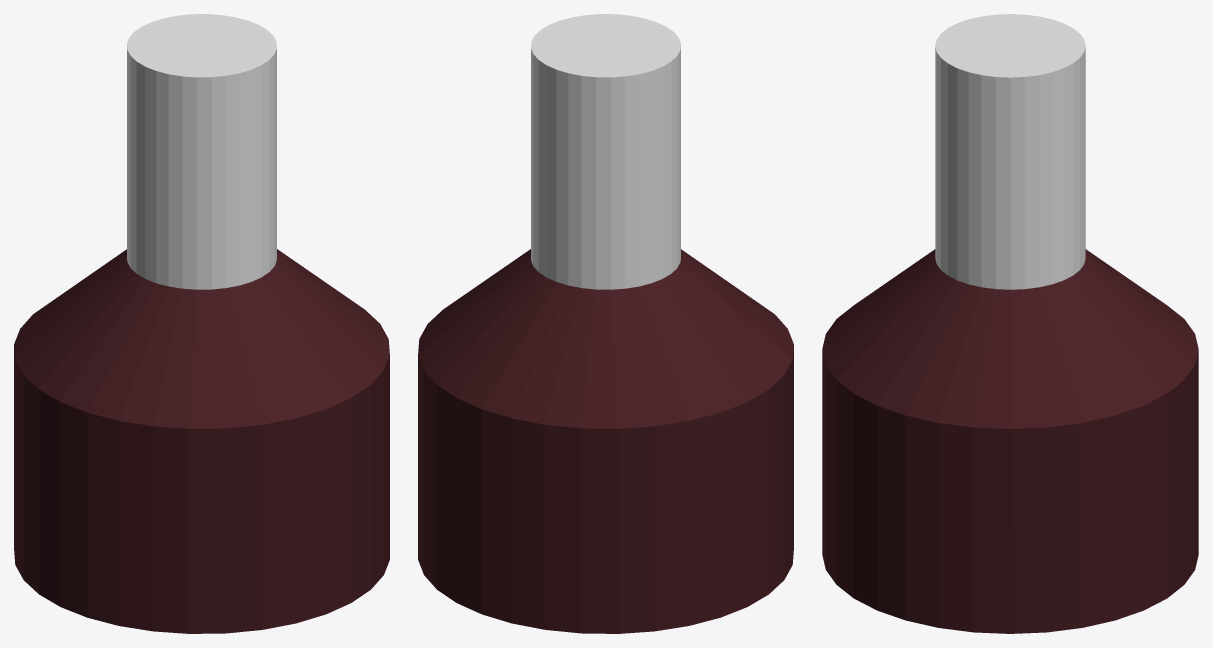
The model's file is item3.fbx.
The picture shows the model from 3 angles, left to right: view 1: azimuth 30°, elevation 25°; view 2: azimuth 150°, elevation 25°; view 3: azimuth 270°, elevation 25°; orthographic projection.
Parts seen in each view (by area): view 1: Cylinder; view 2: Cylinder; view 3: Cylinder.
Part boxes in pixels (x1,y1,x2,y2): Cylinder: (14,14,389,633); Cylinder: (418,14,793,633); Cylinder: (822,14,1198,633).
Size of the model in its own units: 25.3 by 37.71 by 25.3.
